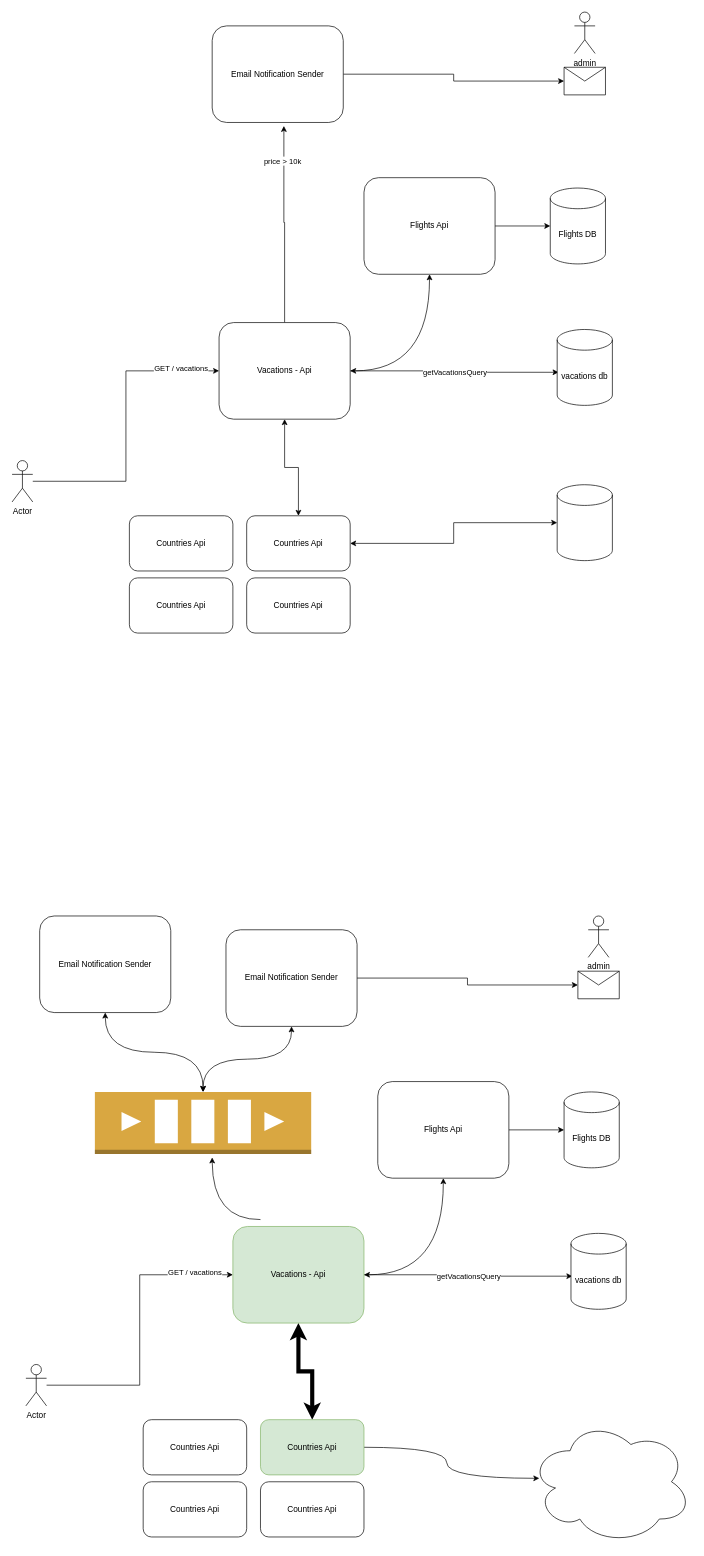
Image size: 704x1556. Some labels were removed from this diagram. The shapes that lost their labels are listed below. From the top down, each one's centre as x and y in pixels, then its label:
the point at 584,522: countries DB
the point at 610,1481: countries rest
